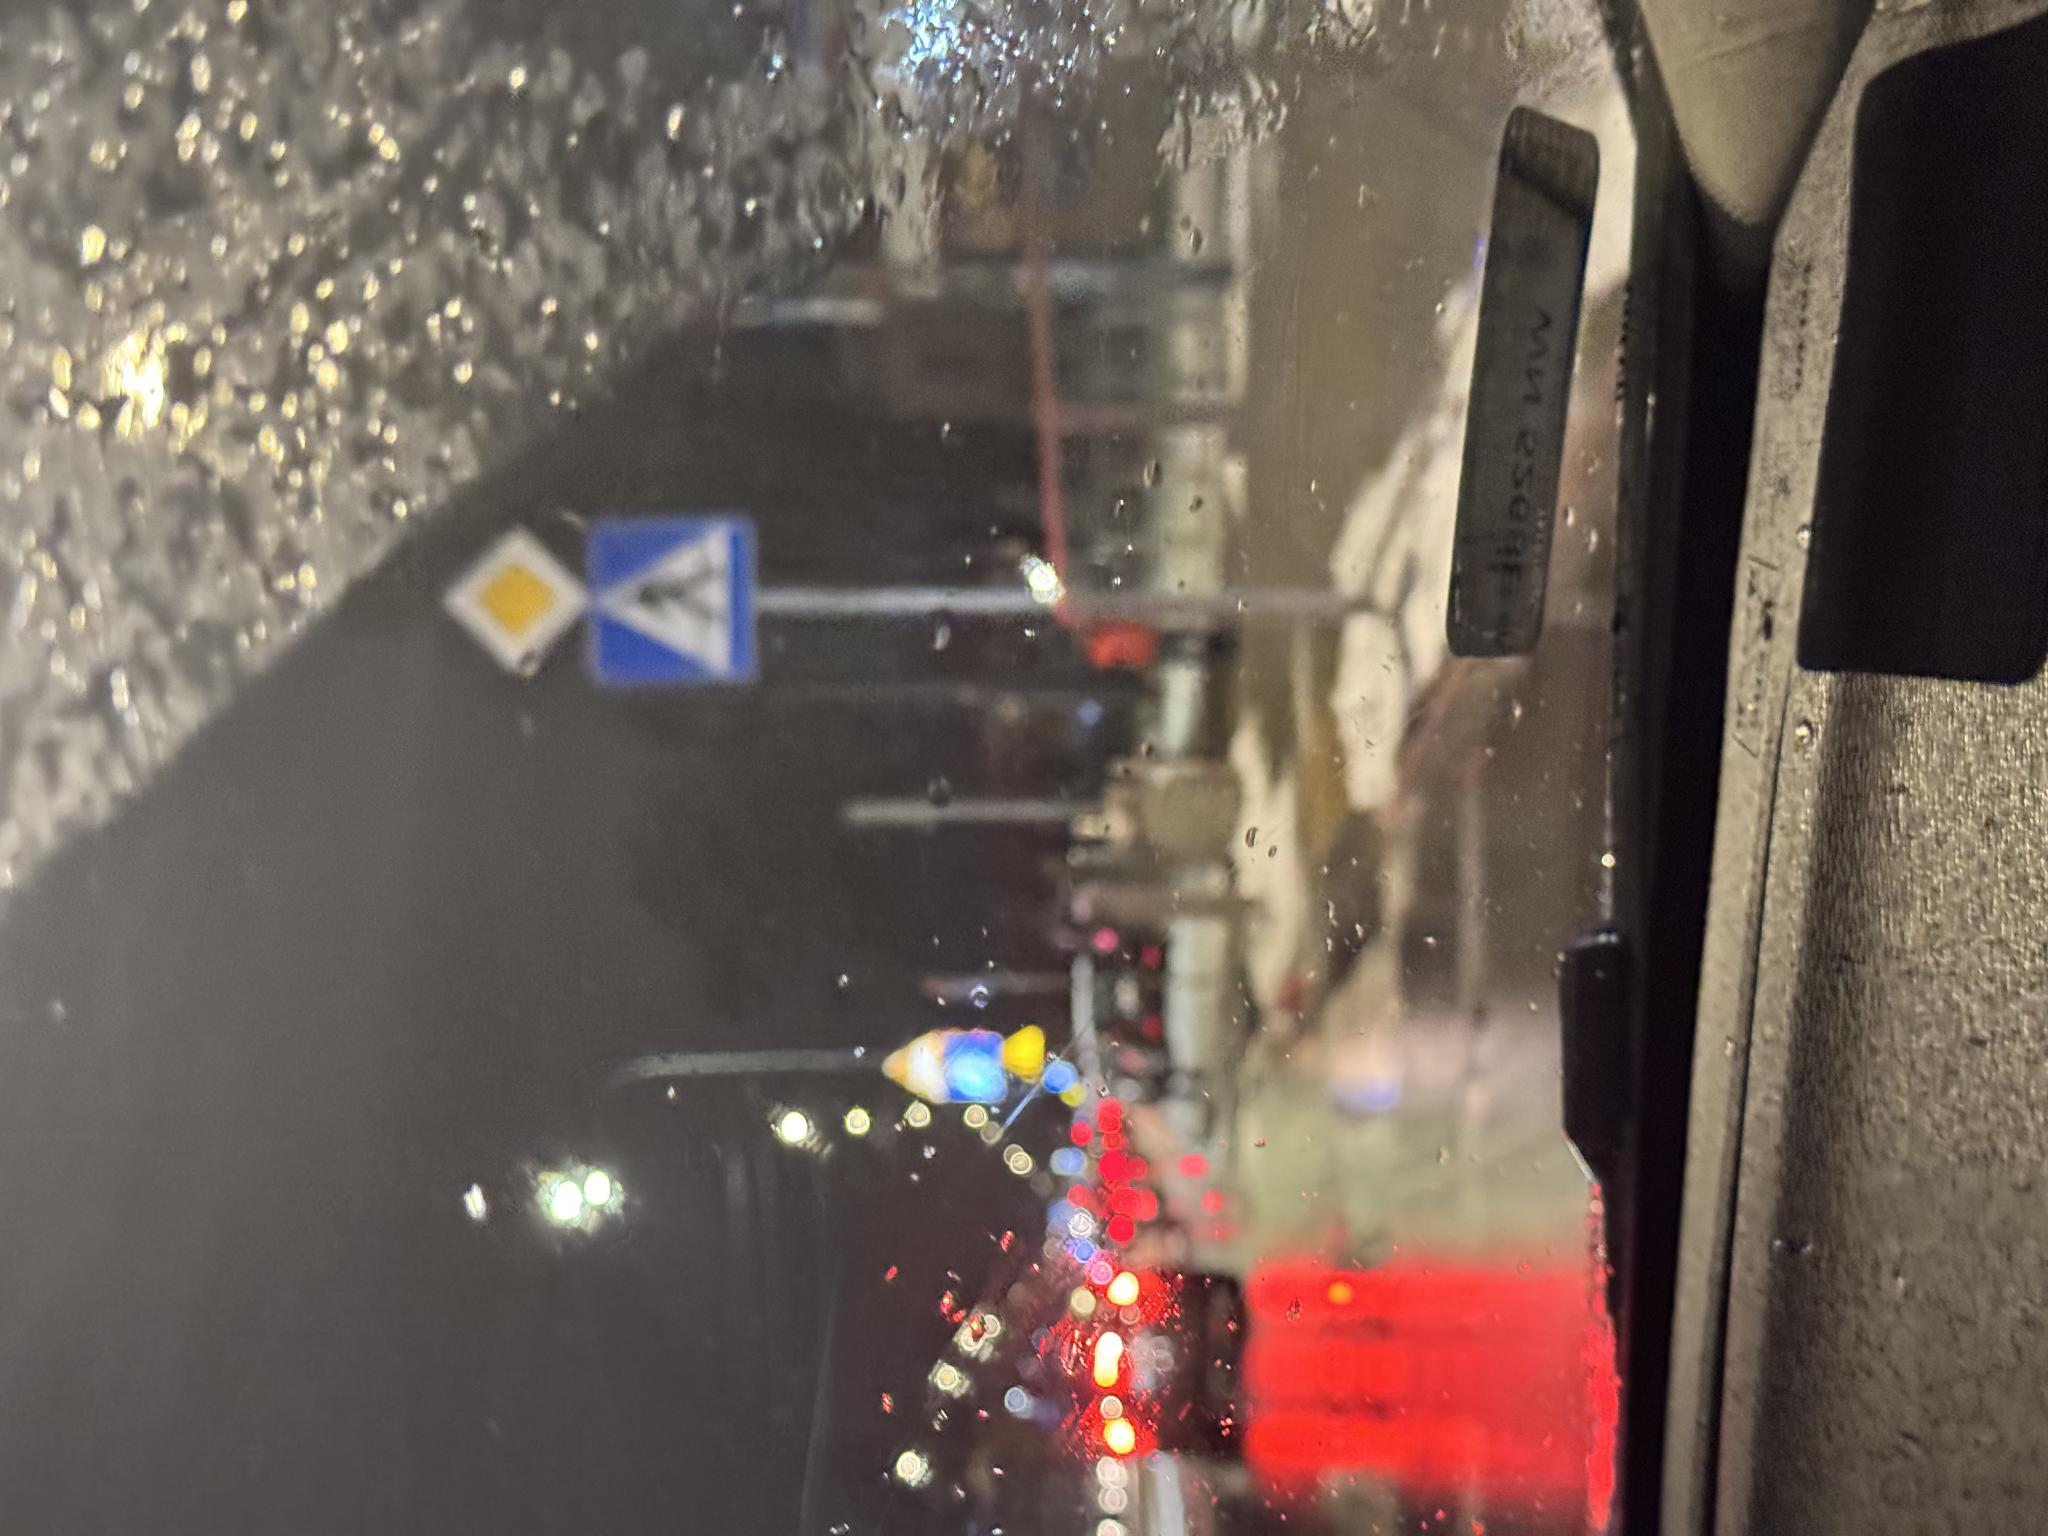information: (848, 594, 1027, 758), (858, 445, 1013, 592)
